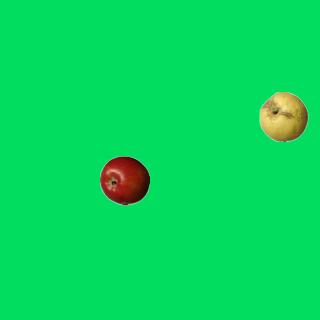Apple Braeburn: (99, 155, 149, 205)
Apple Golden 1: (258, 91, 308, 141)
